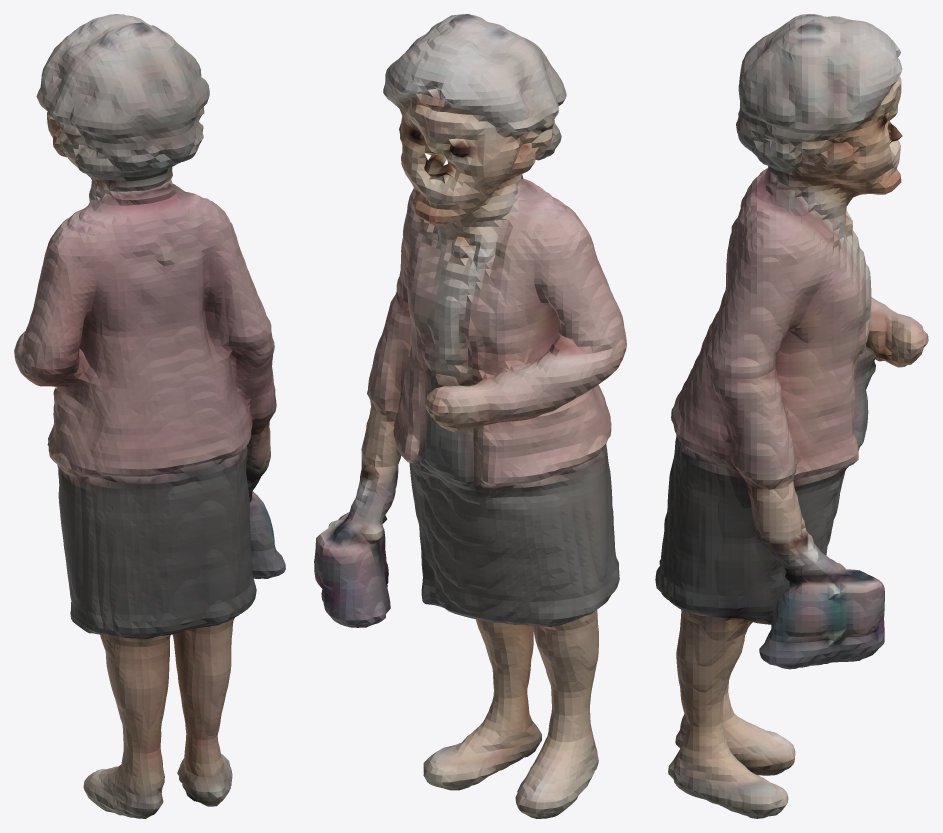
File: guest-v5.glb
3 renders of one model, left to right at view 1: azimuth 30°, elevation 25°; view 2: azimuth 150°, elevation 25°; view 3: azimuth 270°, elevation 25°, orthographic. The views are drawn at different scales.
Parts seen in each view (by area): view 1: world; view 2: world; view 3: world.
Part boxes in pixels (<box>): world: <box>14,14,285,818</box>; world: <box>314,14,626,818</box>; world: <box>655,14,928,818</box>.
Bounding box in the file's own units: 0.3266 × 0.9061 × 0.2907.
